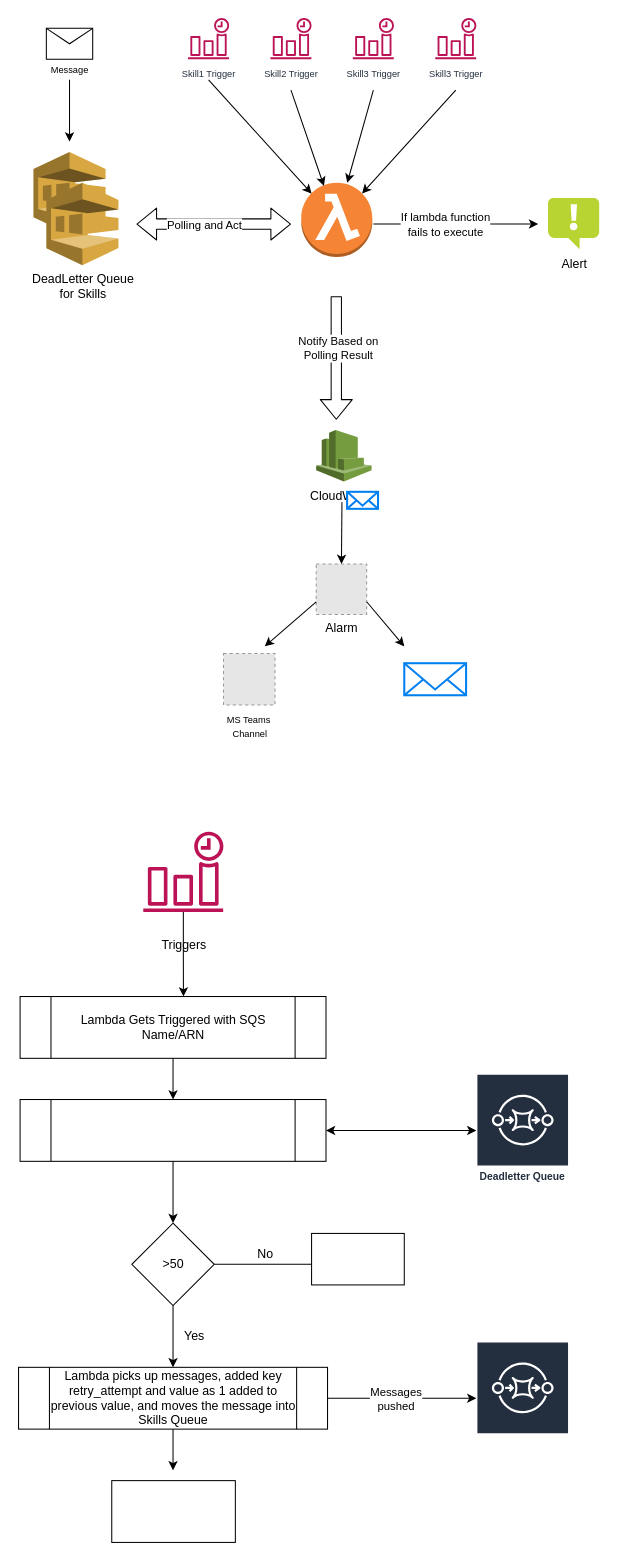
Image size: 617x1560. Some labels were removed from this diagram. Grey dashed boxes stand in for pictures. The shapes that lost their labels are listed below. From the top down, each one's centre as x and y in pixels, then its label:
At (x=336, y=219): "Retry Lambda Function".
At (x=435, y=679): "Email".
At (x=172, y=1129): "Lambda polls SQS Queue and Checks the number of Messages".
At (x=357, y=1258): "No action, wait for next Trigger".
At (x=522, y=1398): "Skills Queue".
At (x=173, y=1511): "Messages get retried by skills".
